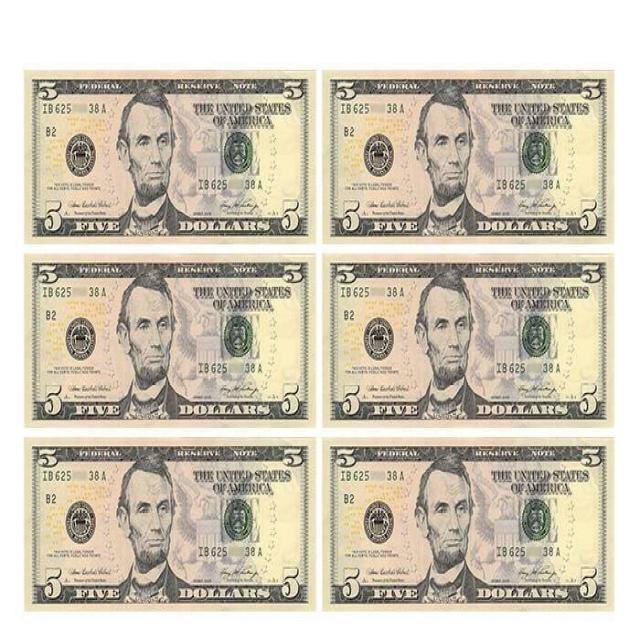5-Front: (26, 70, 311, 243), (24, 255, 314, 424), (24, 436, 314, 604), (324, 440, 610, 608), (321, 255, 612, 420), (326, 71, 612, 237)
